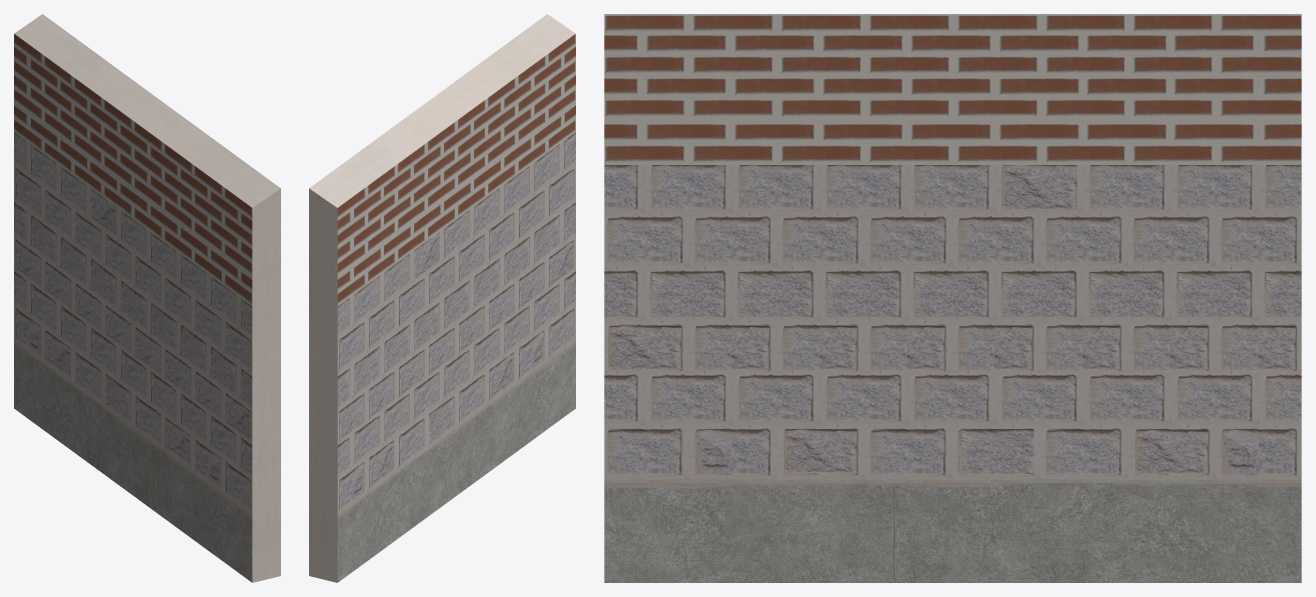
The model's file is SM_StoneWall02G.fbx.
3 views of the same model, side by side, from view 1: azimuth 30°, elevation 25°; view 2: azimuth 150°, elevation 25°; view 3: azimuth 270°, elevation 25° (orthographic). The views are drawn at different scales.
Visible parts, largest first — view 1: SM_StoneWall02G; view 2: SM_StoneWall02G; view 3: SM_StoneWall02G.
Part boxes in pixels (bbox=[...]): SM_StoneWall02G: bbox=[14, 14, 280, 582]; SM_StoneWall02G: bbox=[309, 14, 575, 582]; SM_StoneWall02G: bbox=[604, 14, 1301, 582].
Bounding box in the file's own units: 17.02 × 247 × 222.
Materials: 1 (1 with a texture image).
